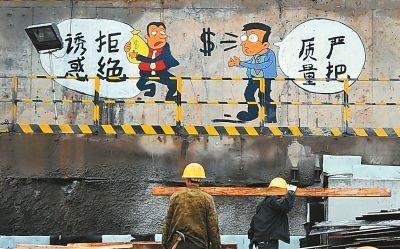yellow: (181, 163, 206, 190), (268, 175, 287, 200)
